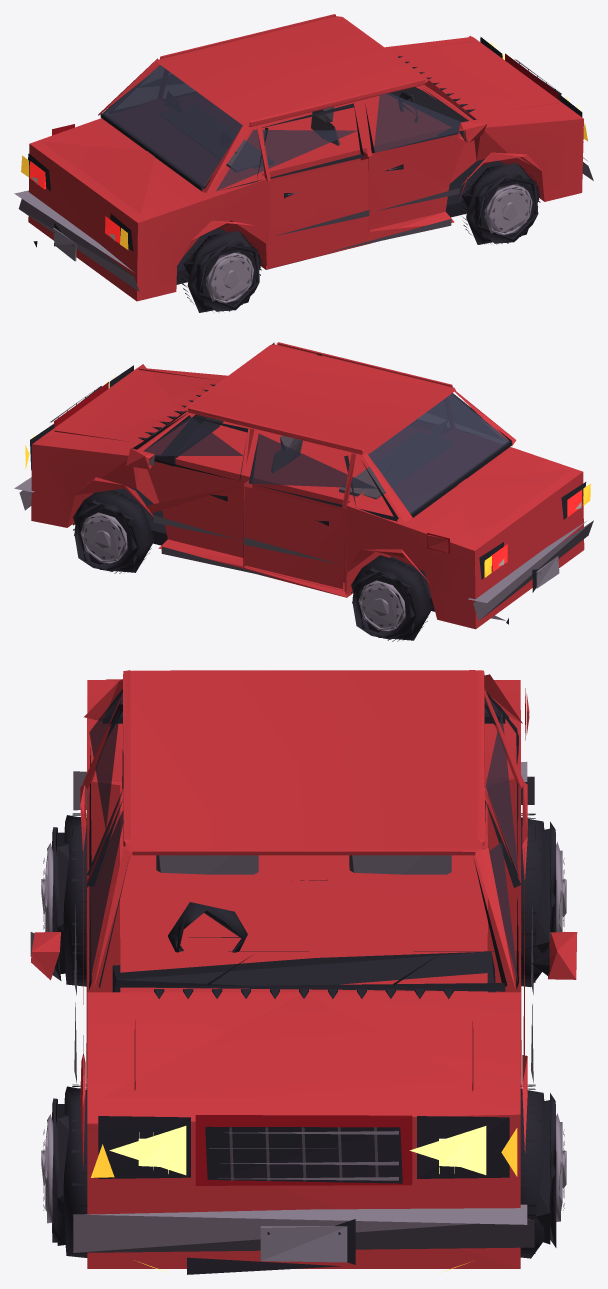
The picture shows the model from 3 angles, top to bottom: view 1: azimuth 30°, elevation 25°; view 2: azimuth 150°, elevation 25°; view 3: azimuth 270°, elevation 25°; orthographic projection. The views are drawn at different scales.
Visible parts, largest first — view 1: body_pal_survivorRed, body_pal_backpackTeal, doorRearL_pal_survivorRed, body_pal_uiDark, body_pal_asphalt, doorRearL_pal_backpackTeal, doorL_pal_backpackTeal, wheelRL_pal_uiDark, wheelFL_pal_uiDark, wheelFL_pal_sidewalk, wheelRL_pal_sidewalk, body_pal_sidewalk (+5 smaller); view 2: body_pal_survivorRed, body_pal_backpackTeal, doorRearR_pal_survivorRed, body_pal_uiDark, body_pal_asphalt, wheelRR_pal_uiDark, wheelFR_pal_uiDark, doorRearR_pal_backpackTeal, doorR_pal_backpackTeal, wheelFR_pal_sidewalk, wheelRR_pal_sidewalk, body_pal_sidewalk (+7 smaller); view 3: body_pal_survivorRed, body_pal_uiDark, body_pal_asphalt, body_pal_sidewalk, wheelFR_pal_uiDark, wheelRL_pal_uiDark, body_pal_blood, wheelFL_pal_uiDark, wheelRR_pal_uiDark, lightsFront_emi_windowGlow, doorL_pal_backpackTeal, doorRearR_pal_backpackTeal (+9 smaller).
Boxes of the visible parts, left/top/right/bottom form: body_pal_survivorRed: left=28, top=14, right=583, bottom=301; body_pal_backpackTeal: left=103, top=65, right=242, bottom=188; doorRearL_pal_survivorRed: left=256, top=125, right=368, bottom=261; body_pal_uiDark: left=28, top=37, right=583, bottom=284; body_pal_asphalt: left=18, top=59, right=593, bottom=291; doorRearL_pal_backpackTeal: left=216, top=130, right=357, bottom=191; doorL_pal_backpackTeal: left=374, top=93, right=461, bottom=152; wheelRL_pal_uiDark: left=182, top=230, right=261, bottom=312; wheelFL_pal_uiDark: left=460, top=162, right=540, bottom=244; wheelFL_pal_sidewalk: left=484, top=185, right=532, bottom=235; wheelRL_pal_sidewalk: left=206, top=253, right=254, bottom=303; body_pal_sidewalk: left=14, top=157, right=588, bottom=271; body_pal_survivorRed: left=31, top=342, right=584, bottom=629; body_pal_backpackTeal: left=368, top=393, right=509, bottom=513; doorRearR_pal_survivorRed: left=244, top=453, right=355, bottom=588; body_pal_uiDark: left=30, top=365, right=586, bottom=624; body_pal_asphalt: left=19, top=390, right=593, bottom=620; wheelRR_pal_uiDark: left=351, top=555, right=432, bottom=641; wheelFR_pal_uiDark: left=73, top=490, right=154, bottom=573; doorRearR_pal_backpackTeal: left=250, top=433, right=377, bottom=488; doorR_pal_backpackTeal: left=144, top=417, right=242, bottom=455; wheelFR_pal_sidewalk: left=80, top=512, right=127, bottom=563; wheelRR_pal_sidewalk: left=358, top=580, right=405, bottom=631; body_pal_sidewalk: left=14, top=477, right=586, bottom=603; body_pal_survivorRed: left=80, top=670, right=529, bottom=1268; body_pal_uiDark: left=98, top=690, right=509, bottom=1274; body_pal_asphalt: left=73, top=771, right=534, bottom=1252; body_pal_sidewalk: left=85, top=761, right=527, bottom=1262; wheelFR_pal_uiDark: left=520, top=1084, right=556, bottom=1258; wheelRL_pal_uiDark: left=52, top=813, right=86, bottom=986; body_pal_blood: left=195, top=688, right=525, bottom=1185; wheelFL_pal_uiDark: left=52, top=1084, right=87, bottom=1257; wheelRR_pal_uiDark: left=521, top=813, right=556, bottom=987; lightsFront_emi_windowGlow: left=109, top=1126, right=486, bottom=1175; doorL_pal_backpackTeal: left=89, top=810, right=123, bottom=984; doorRearR_pal_backpackTeal: left=485, top=711, right=518, bottom=874.
Size of the model in its own units: 4.63 by 1.57 by 2.27.
